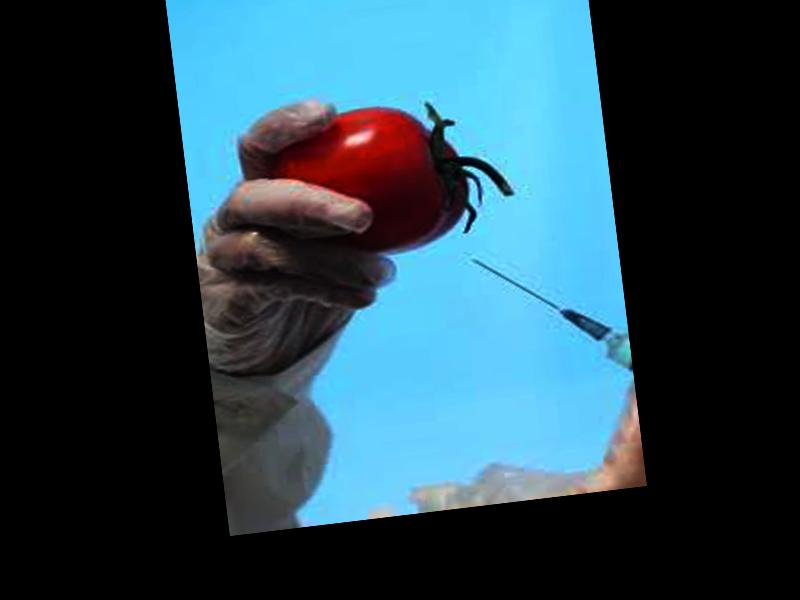Tomato: (265, 96, 473, 264)
